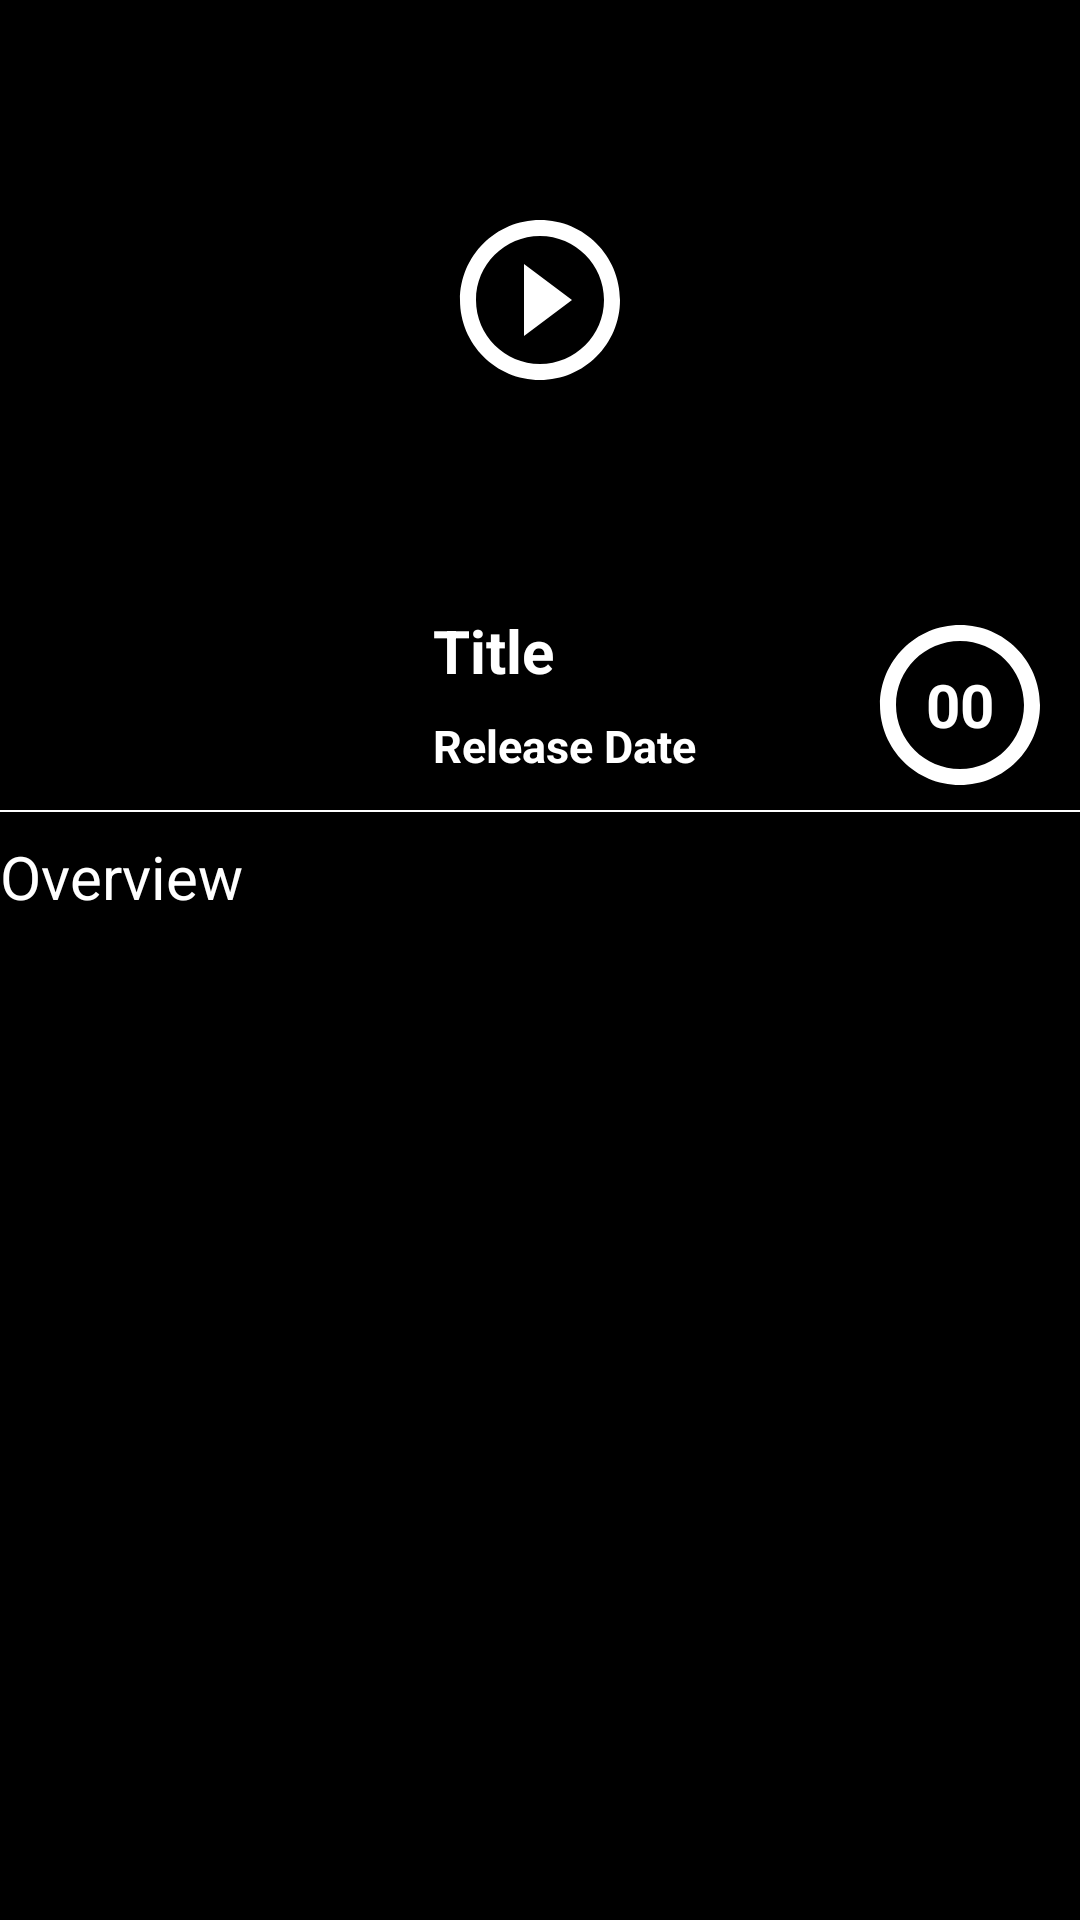

Icon bounding boxes for this 1080w x 1920h phone screenshot, format (x1, y1, x2, y2):
Play Trailer: (459, 220, 620, 380)
